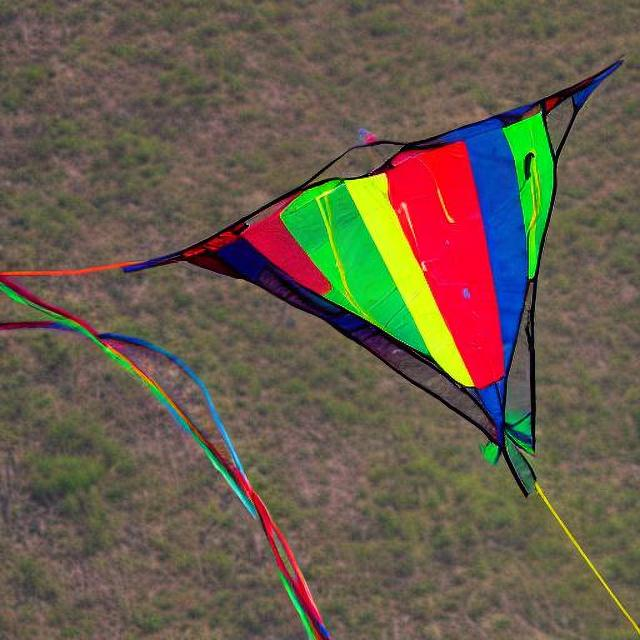floating object: (74, 73, 623, 465), (16, 247, 333, 631)
